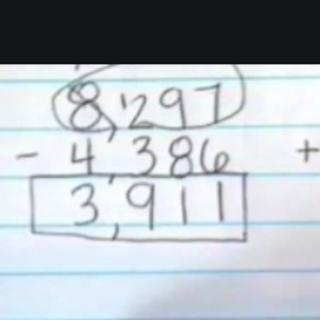.: (106, 171, 118, 184)
1: (214, 180, 225, 231), (180, 183, 190, 226)
2: (131, 93, 149, 128)
3: (71, 182, 100, 228), (132, 135, 158, 175)
4: (69, 138, 95, 172)
6: (200, 137, 228, 179)
7: (197, 81, 221, 124)
8: (70, 81, 104, 131), (169, 136, 193, 178)
9: (126, 180, 158, 232), (161, 85, 189, 125)
